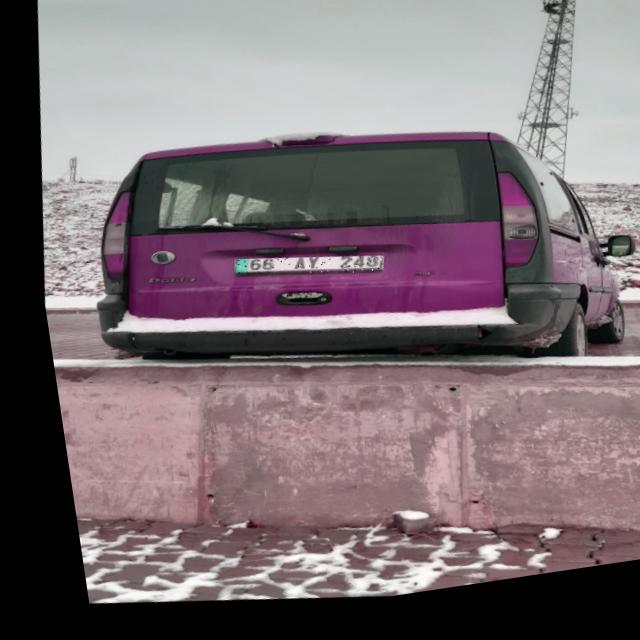license_plate: (223, 248, 376, 299)
